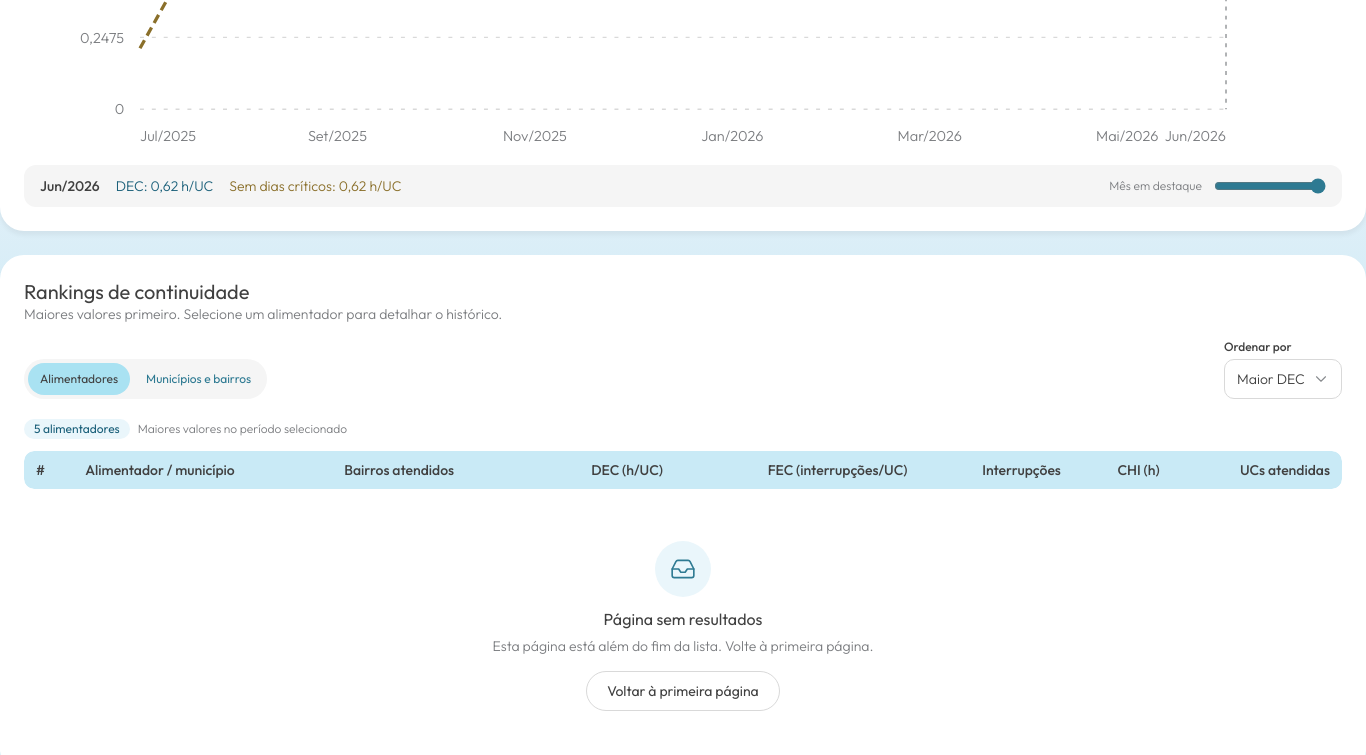
Test: Tela 6 — Operação › solicita a ordenação ao servidor e reseta a página
(page scrolled)
Select "Maior CHI" in the dropdown labelled "Ordenar por" at (1283, 379), box top-left (1224, 359), bottom-right (1342, 399)
(page scrolled)
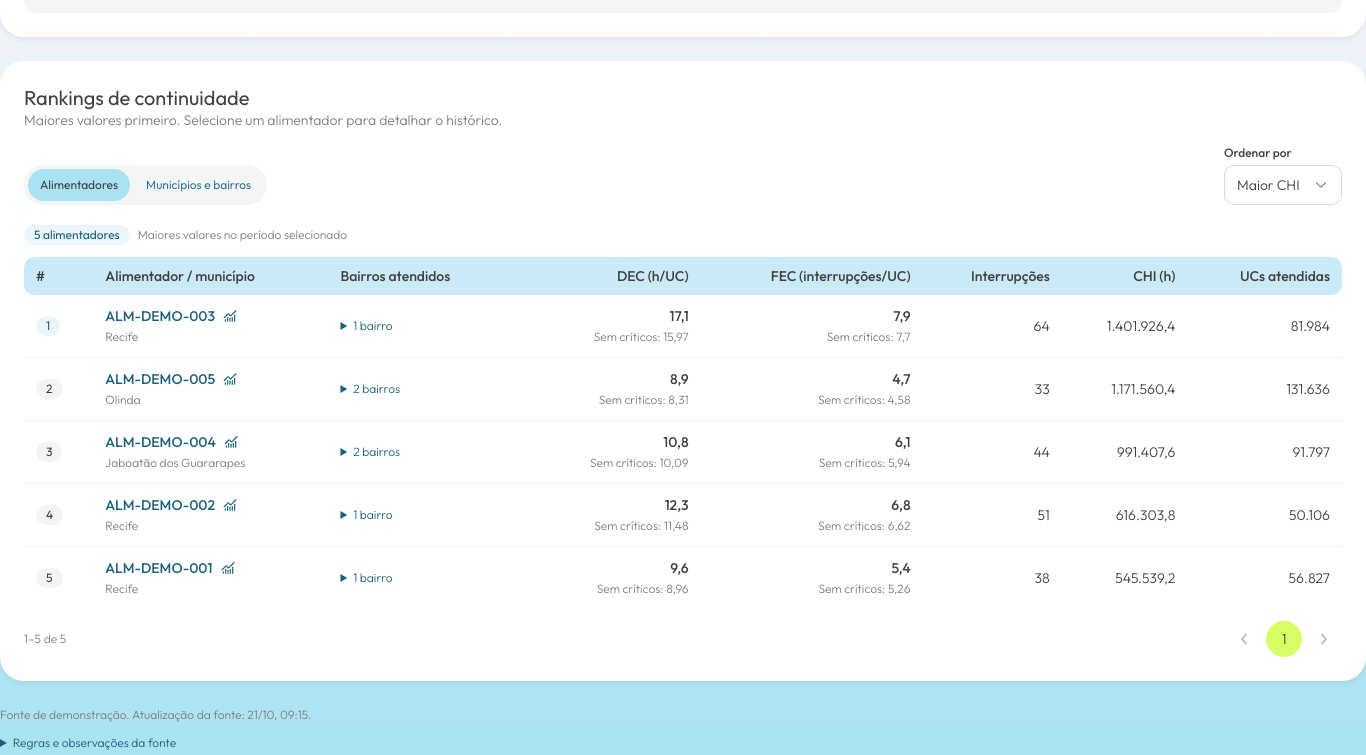
Expected: the button with aria-label "Analisar ALM-DEMO-005" is shown, top-left (105, 370), bottom-right (237, 388)
